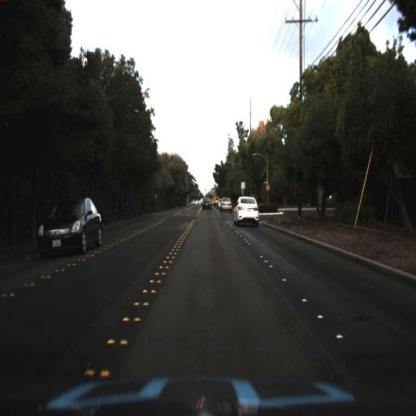car: (38, 198, 105, 256), (233, 195, 261, 230), (219, 195, 230, 214), (201, 199, 213, 215)
